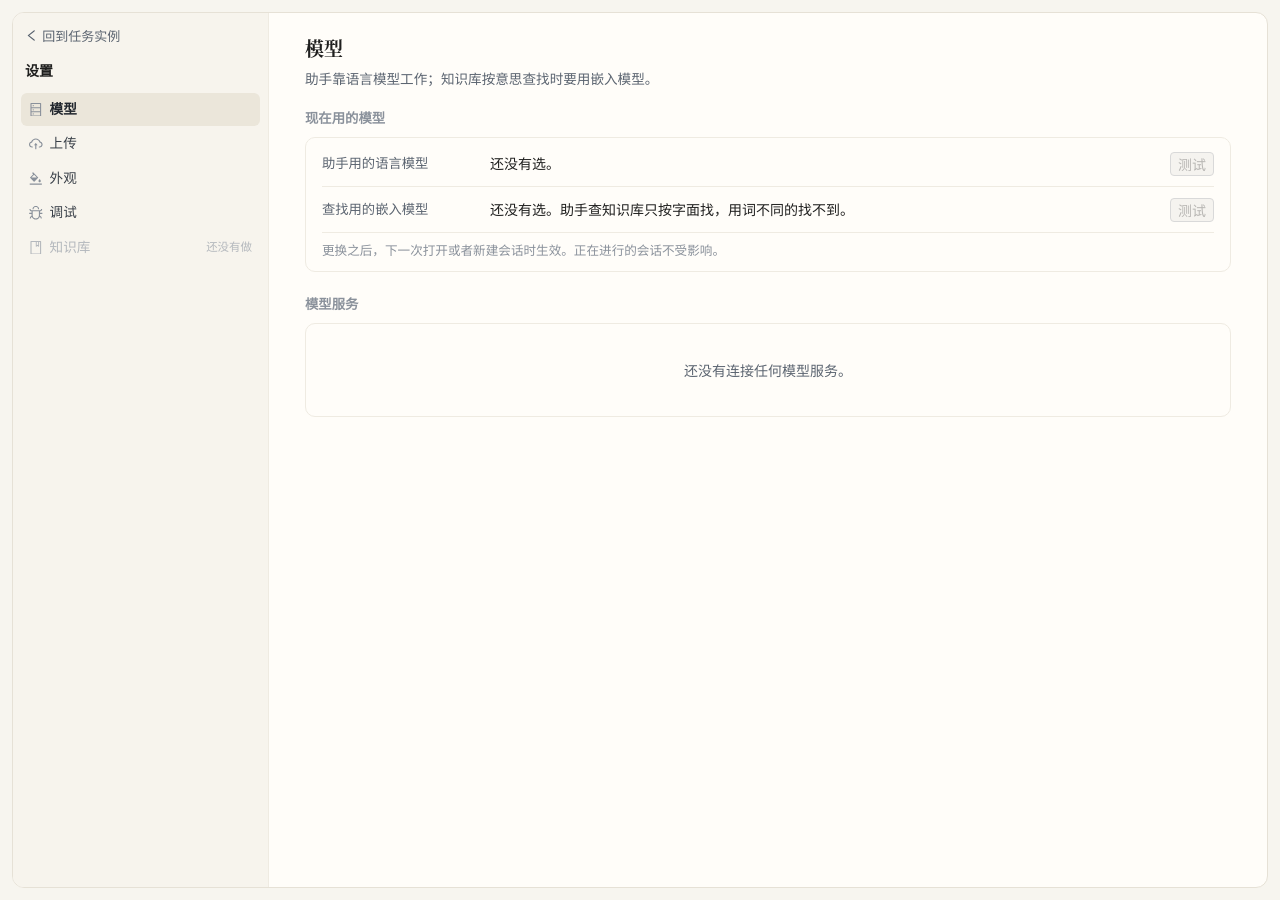
Scenario: 设置页面的「调试」一栏 › 开着调试模式：左边多出「调试」；没有设目录时说明用的都是原来的说明，没有清单，「不用目录」点不了
The width and height of the screenshot is (1280, 900).
Click the button with test id "settings-nav-debug" at (53, 212), box [29, 204, 77, 220]
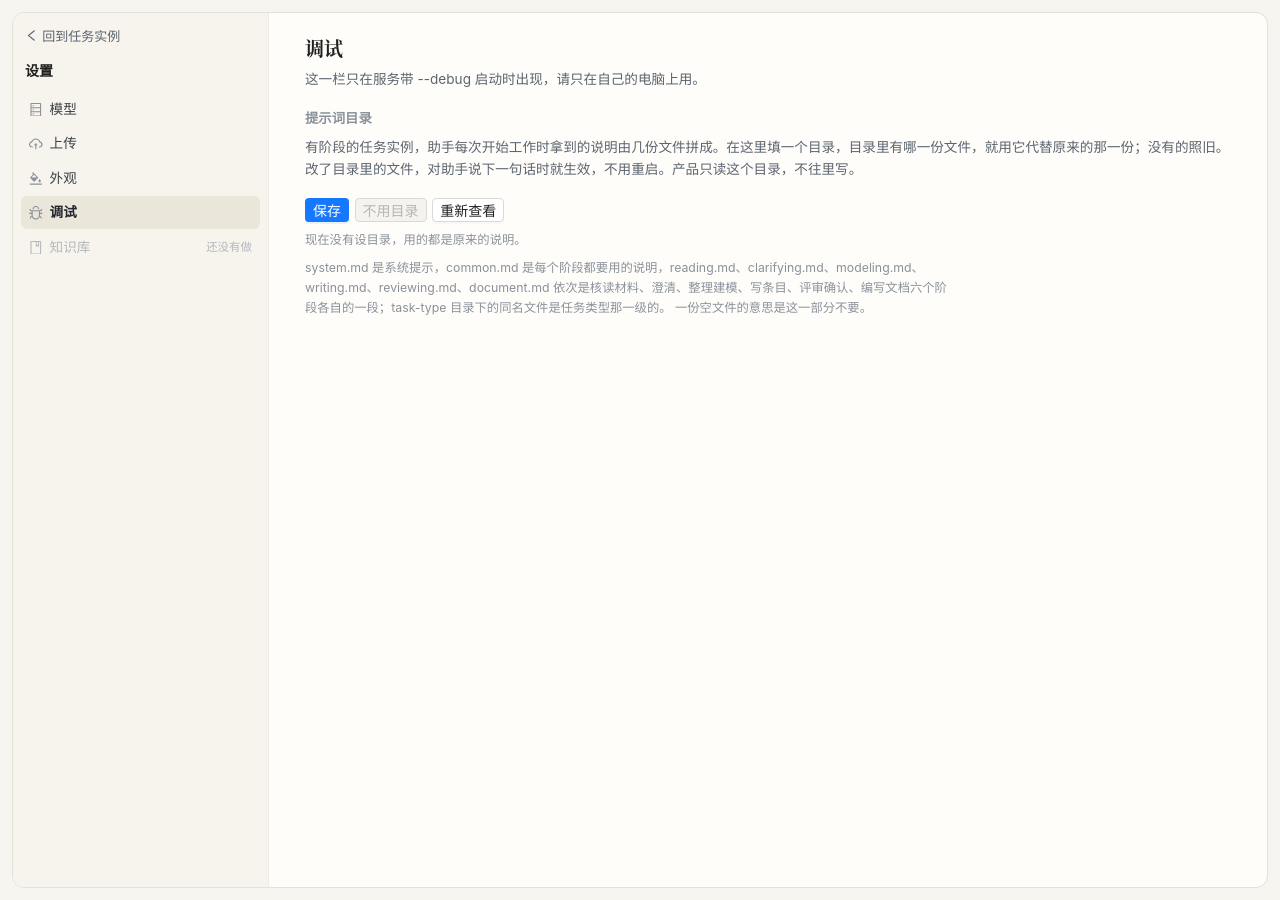
Check: the text with test id "prompt-dir-none" reads "现在没有设目录，用的都是原来的说明。", box [305, 232, 527, 247]
Check: the button with test id "prompt-dir-clear" is disabled, box [355, 198, 427, 222]
Check: the element with test id "debug-settings" shows "请只在自己的电脑上用", box [305, 71, 706, 87]
